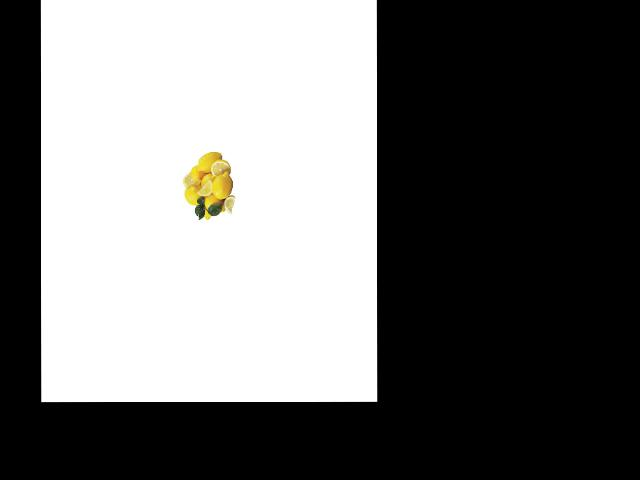lemon: (204, 191, 225, 214)
